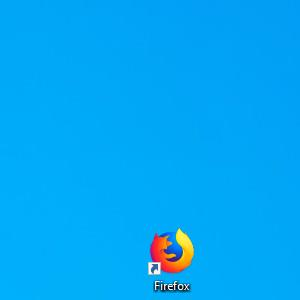firefox: (148, 227, 195, 275)
